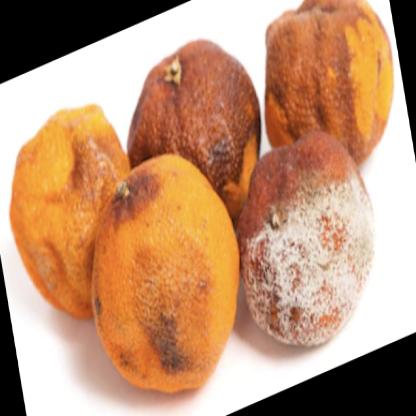rotten: (95, 155, 242, 397), (246, 137, 376, 347), (10, 107, 132, 323), (134, 38, 262, 213), (270, 4, 393, 159)
